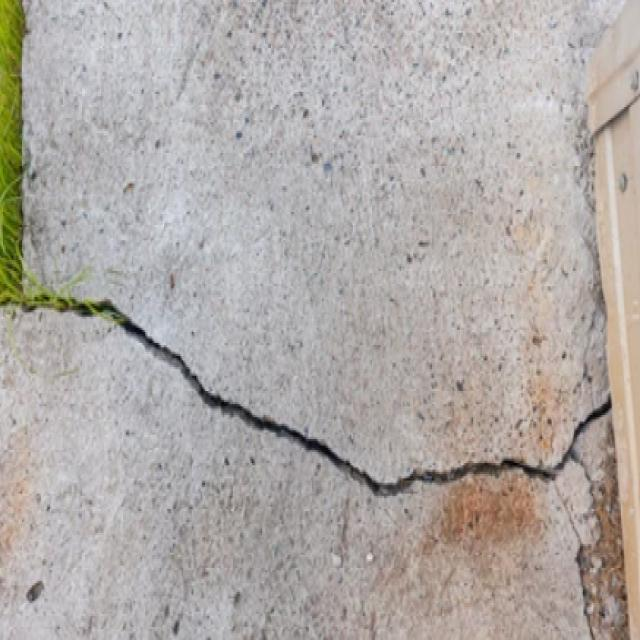curved crack: (0, 283, 612, 495)
